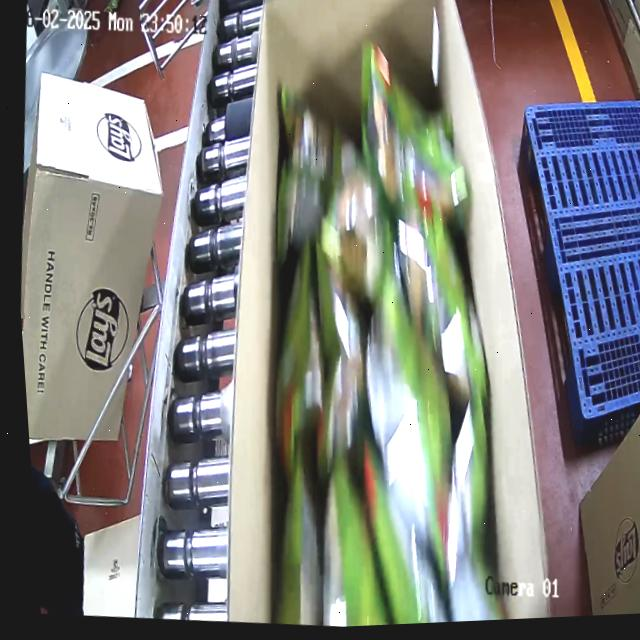YOGURT_HERB: (228, 88, 546, 630)
